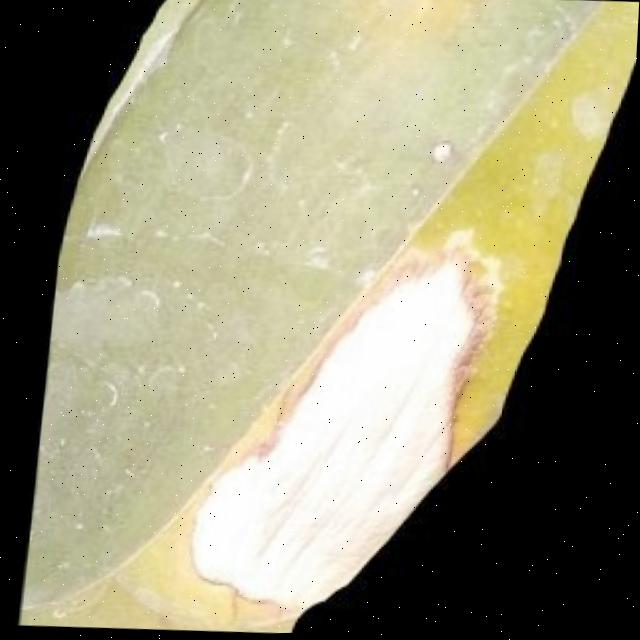mite: (402, 130, 465, 208), (430, 140, 456, 167), (409, 183, 426, 203)
spots: (21, 0, 639, 635)
